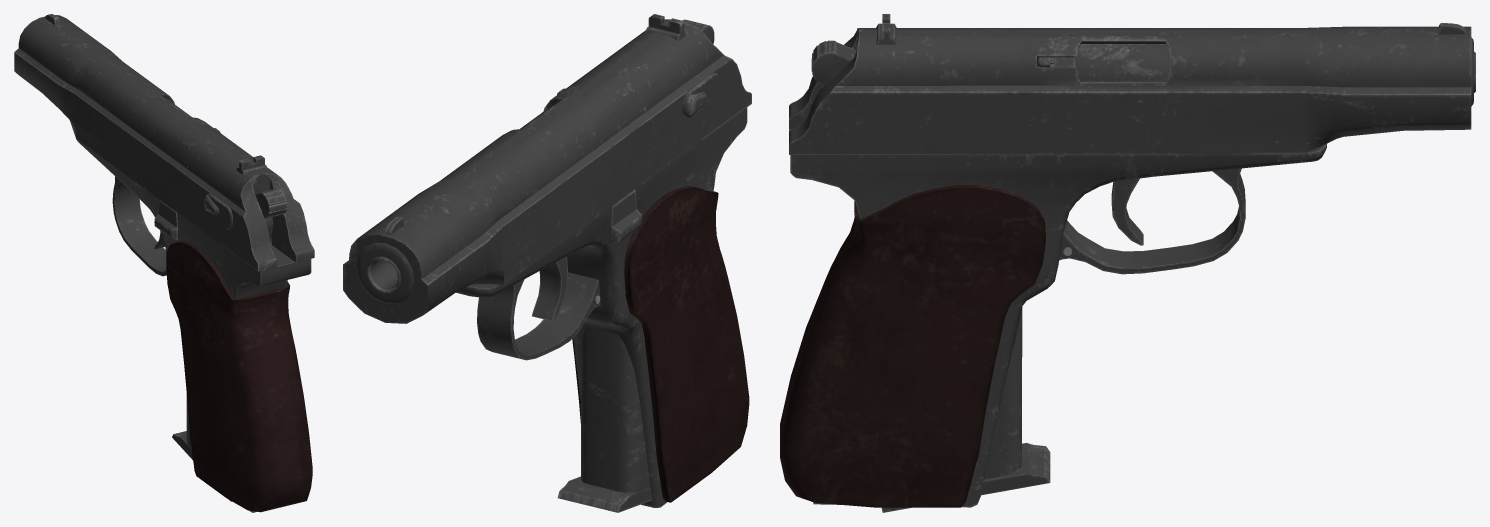
File: pistol_p45.gltf
The picture shows the model from 3 angles, left to right: view 1: azimuth 30°, elevation 25°; view 2: azimuth 150°, elevation 25°; view 3: azimuth 270°, elevation 25°; orthographic projection. The views are drawn at different scales.
Visible parts, largest first — view 1: Body, Bolt, LOD; view 2: Bolt, Body, Magazine, LOD; view 3: Body, Bolt, LOD, Magazine.
Boxes of the visible parts, x1,y1,x2,y2 form: Body: (76,98,312,512); Bolt: (14,14,314,271); LOD: (14,22,286,501); Bolt: (343,14,751,323); Body: (366,103,749,507); Magazine: (557,327,651,512); LOD: (344,20,746,499); Body: (780,44,1475,507); Bolt: (789,14,1473,154); LOD: (789,23,1473,154); Magazine: (881,308,1050,512).
Size of the model in its own units: 0.0257 by 0.1273 by 0.1685.
1 material, 1 textured.
